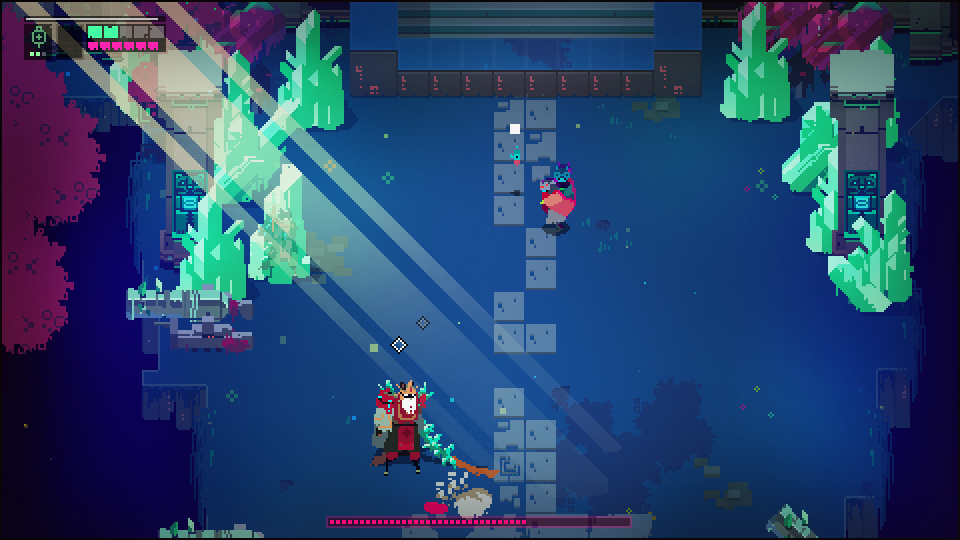hanged_man: (370, 377, 459, 475)
player: (533, 176, 579, 232)
